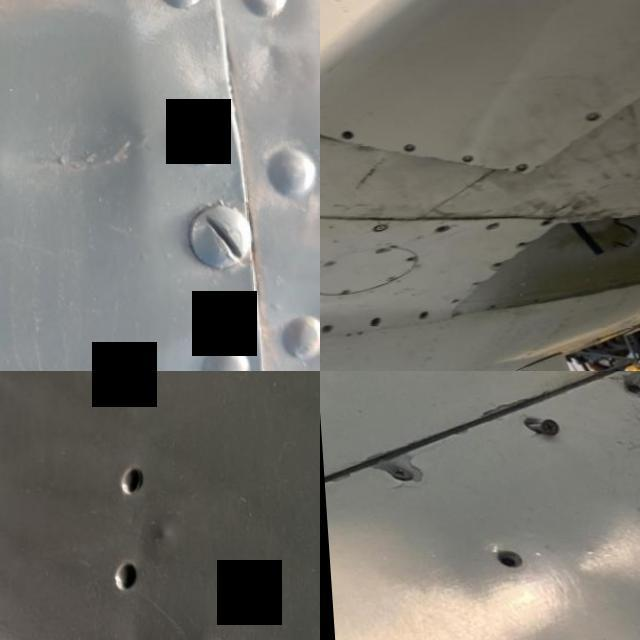Dent: (0, 91, 159, 210)
Missing_Fastener: (489, 546, 526, 570), (576, 109, 600, 122), (622, 380, 640, 396), (530, 216, 553, 228), (360, 316, 379, 329), (336, 128, 352, 140), (511, 162, 526, 174), (511, 238, 526, 250), (398, 141, 414, 152), (458, 152, 472, 164), (428, 224, 446, 233), (411, 311, 425, 320)
